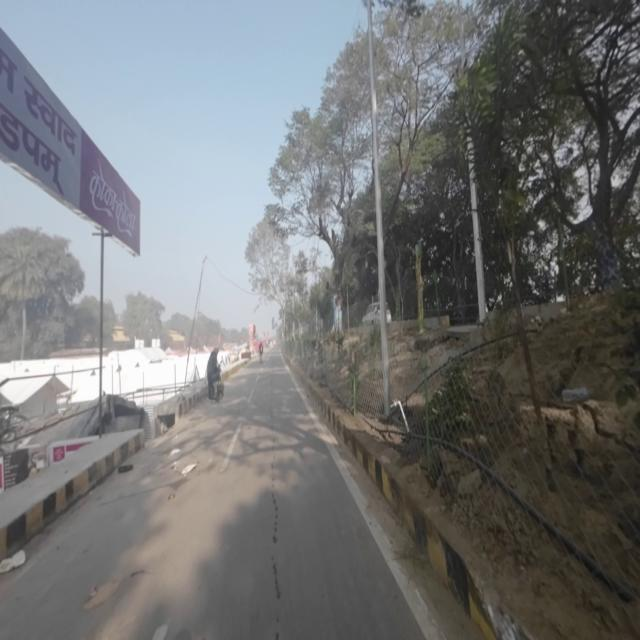Garbage: (0, 549, 33, 574), (178, 461, 200, 478), (167, 445, 182, 461)
